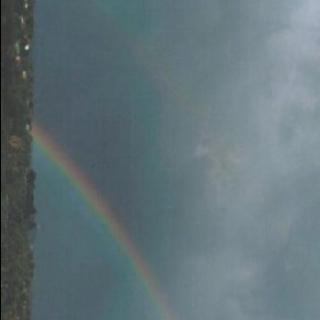Stratocumulus: (49, 0, 320, 320)
